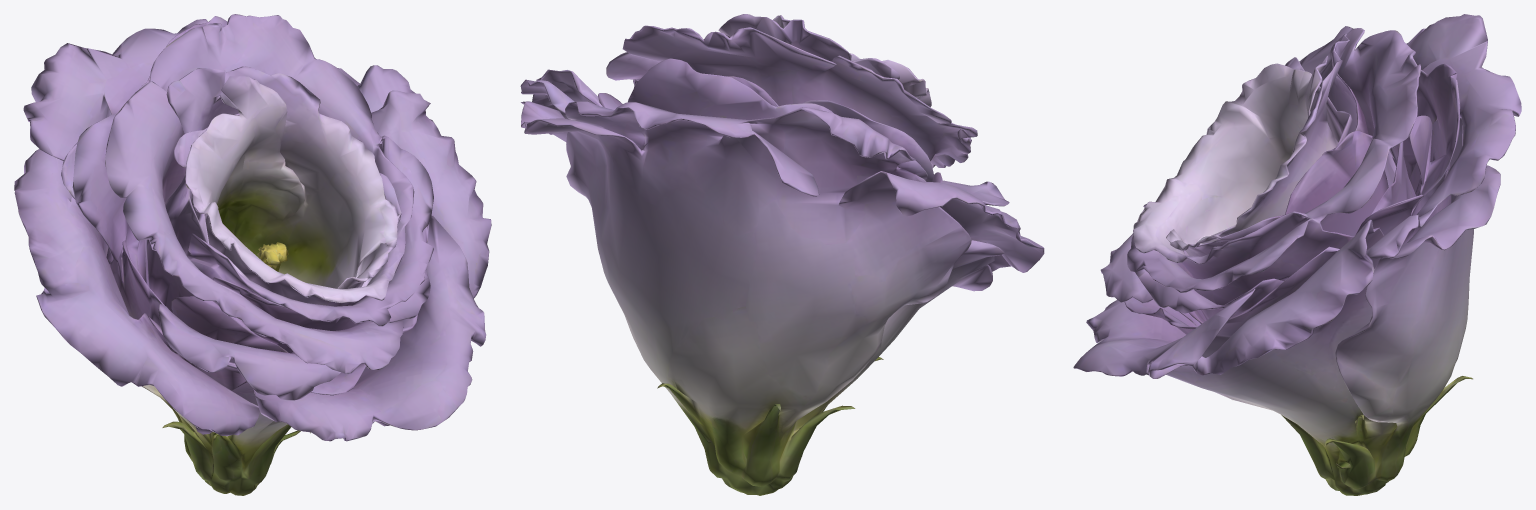
File: fl-flower-eustoma.glb
3 views of the same model, side by side, from view 1: azimuth 30°, elevation 25°; view 2: azimuth 150°, elevation 25°; view 3: azimuth 270°, elevation 25° (orthographic). The views are drawn at different scales.
Parts seen in each view (by area): view 1: node_0; view 2: node_0; view 3: node_0.
Part boxes in pixels (x1,y1,x2,y2): node_0: [14, 14, 491, 495]; node_0: [520, 14, 1044, 495]; node_0: [1073, 14, 1521, 495].
Size of the model in its own units: 0.9807 by 0.9472 by 0.8609.
Materials: 1 (1 with a texture image).
